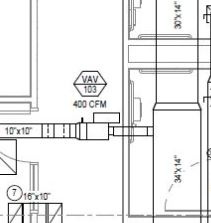VAV: (76, 110, 123, 143)
